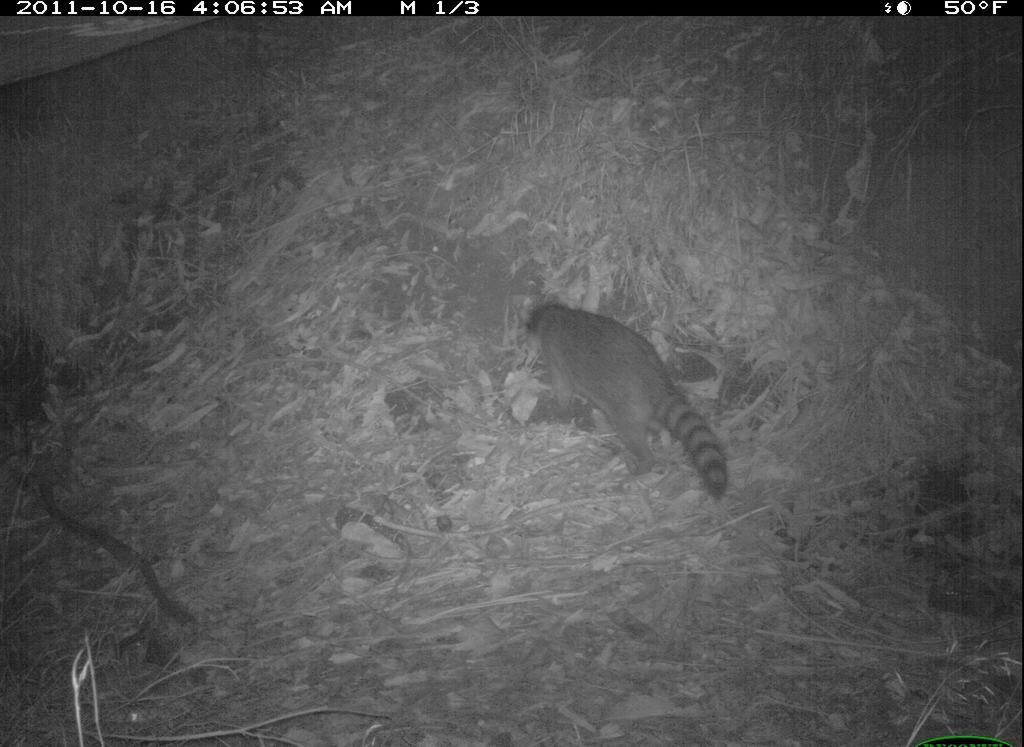raccoon: (524, 299, 734, 504)
